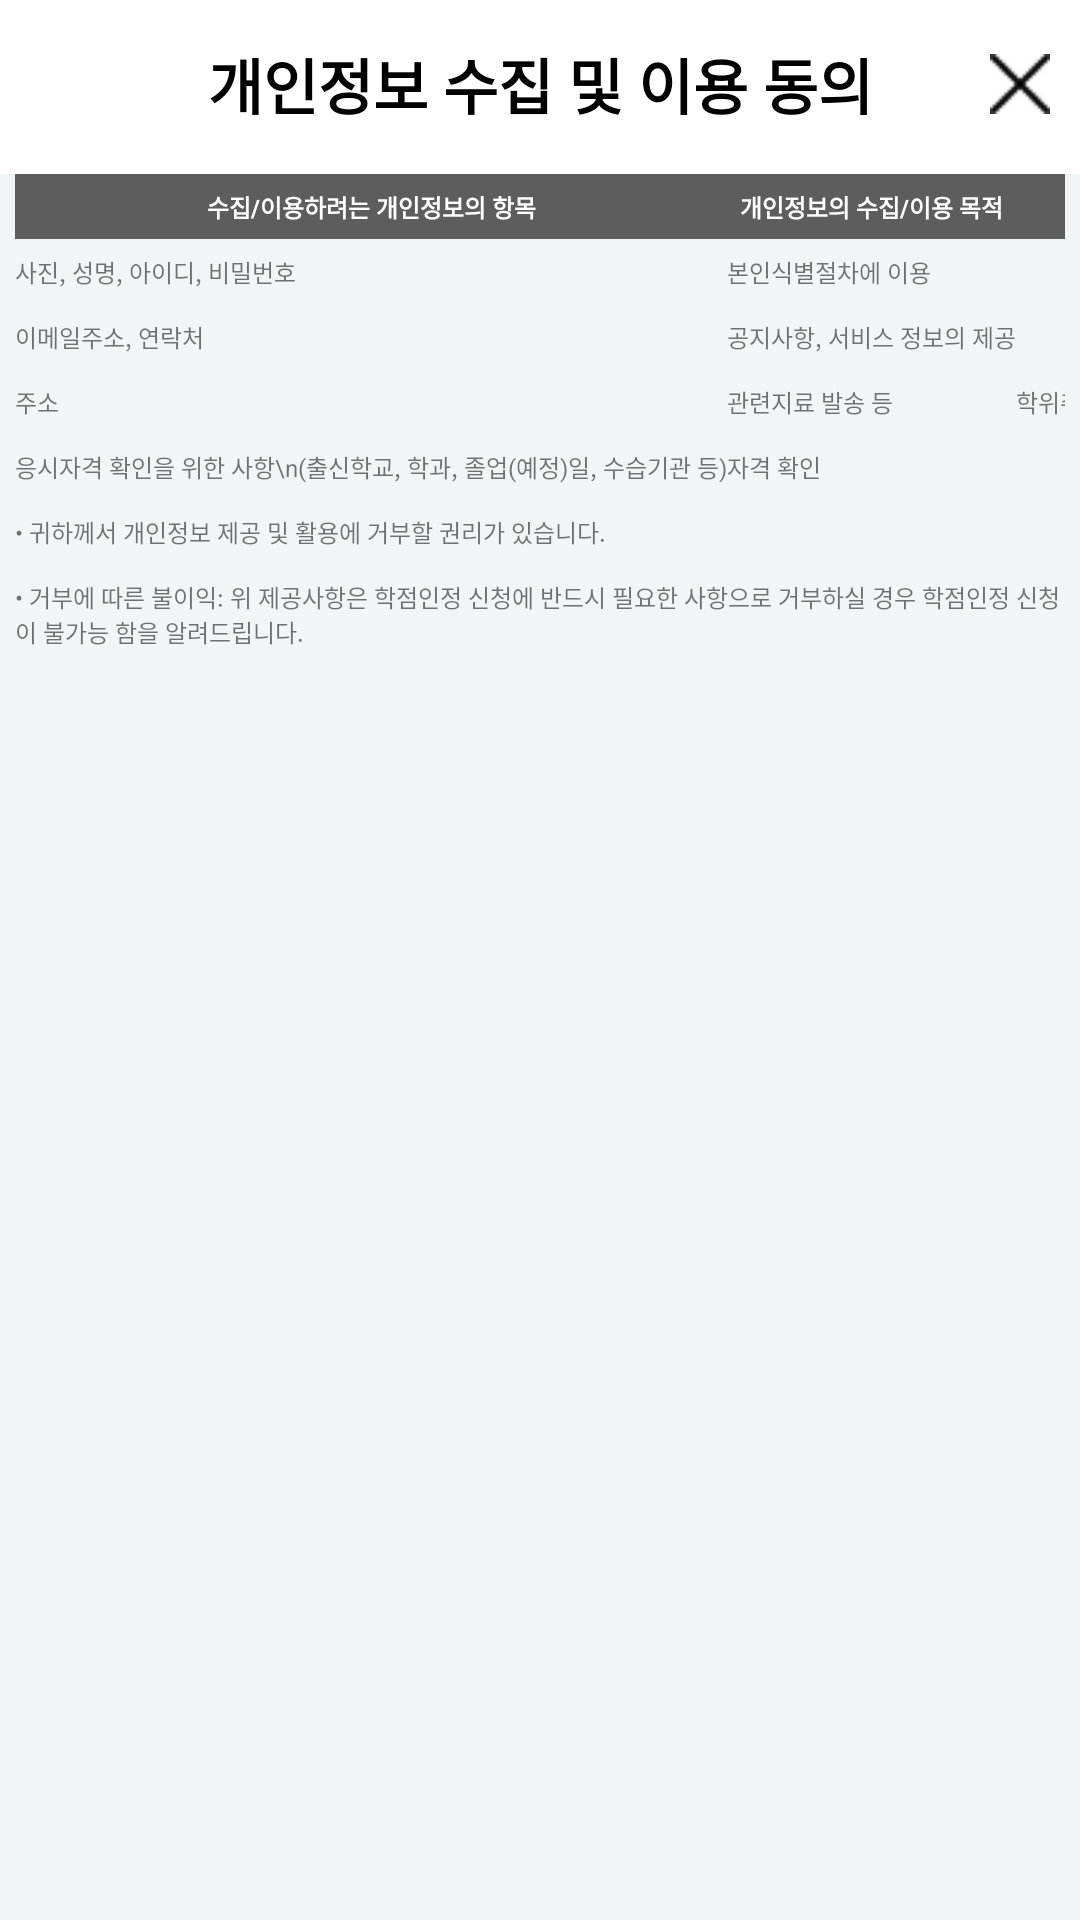

Point at icon controls on the screen. Image size 1080 x 1920, points as point (x, y).
close: point (1020, 84)
